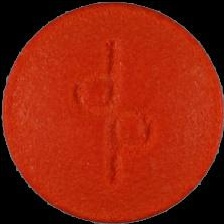21695-995: (0, 0, 224, 224)
